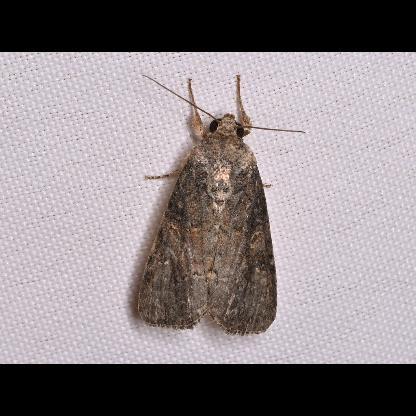Fall Armyworm Moth: (134, 72, 308, 338)
